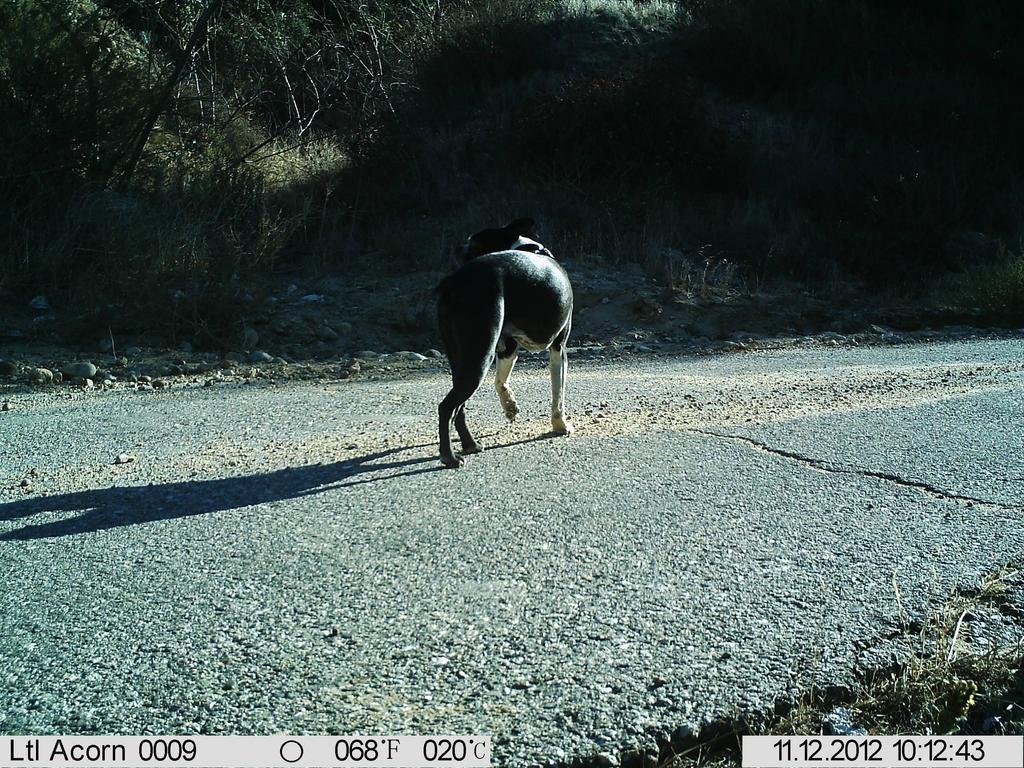dog: (411, 203, 593, 479)
